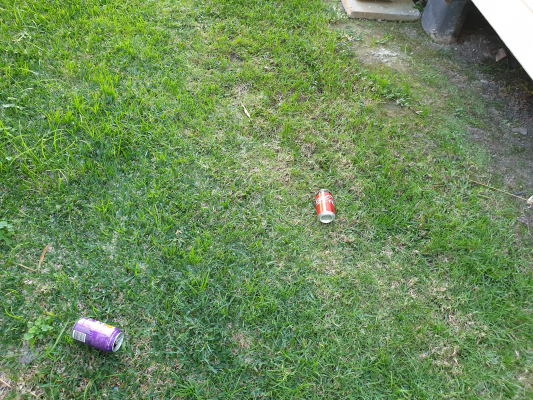Plastic Bottle: (71, 316, 124, 353), (315, 189, 336, 223)
